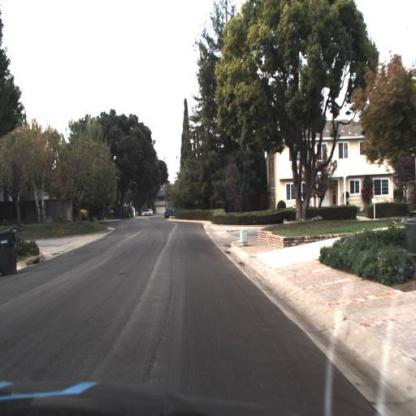car: (167, 201, 179, 219), (145, 210, 151, 217)
